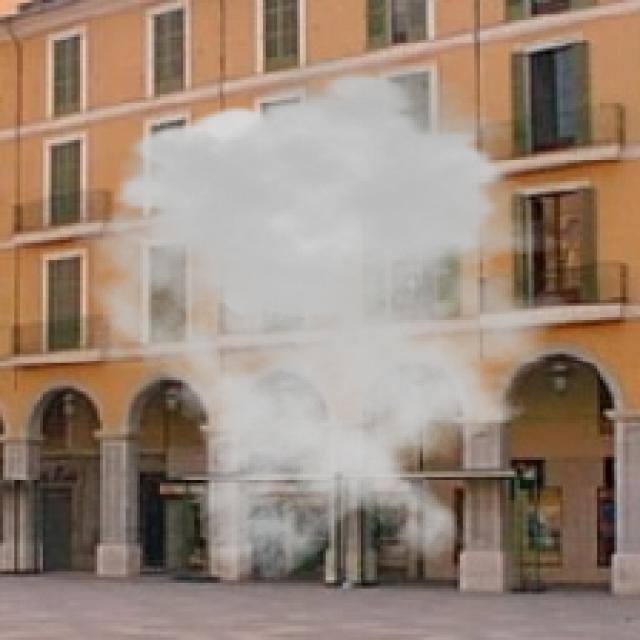smoke: (63, 54, 608, 583)
